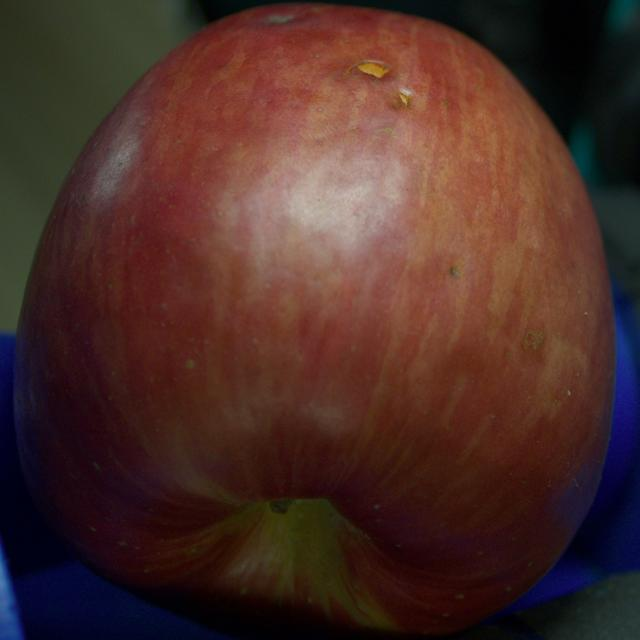apple: (14, 4, 615, 639)
pest: (358, 61, 388, 78), (266, 14, 294, 23)
scratch: (399, 91, 408, 105)
